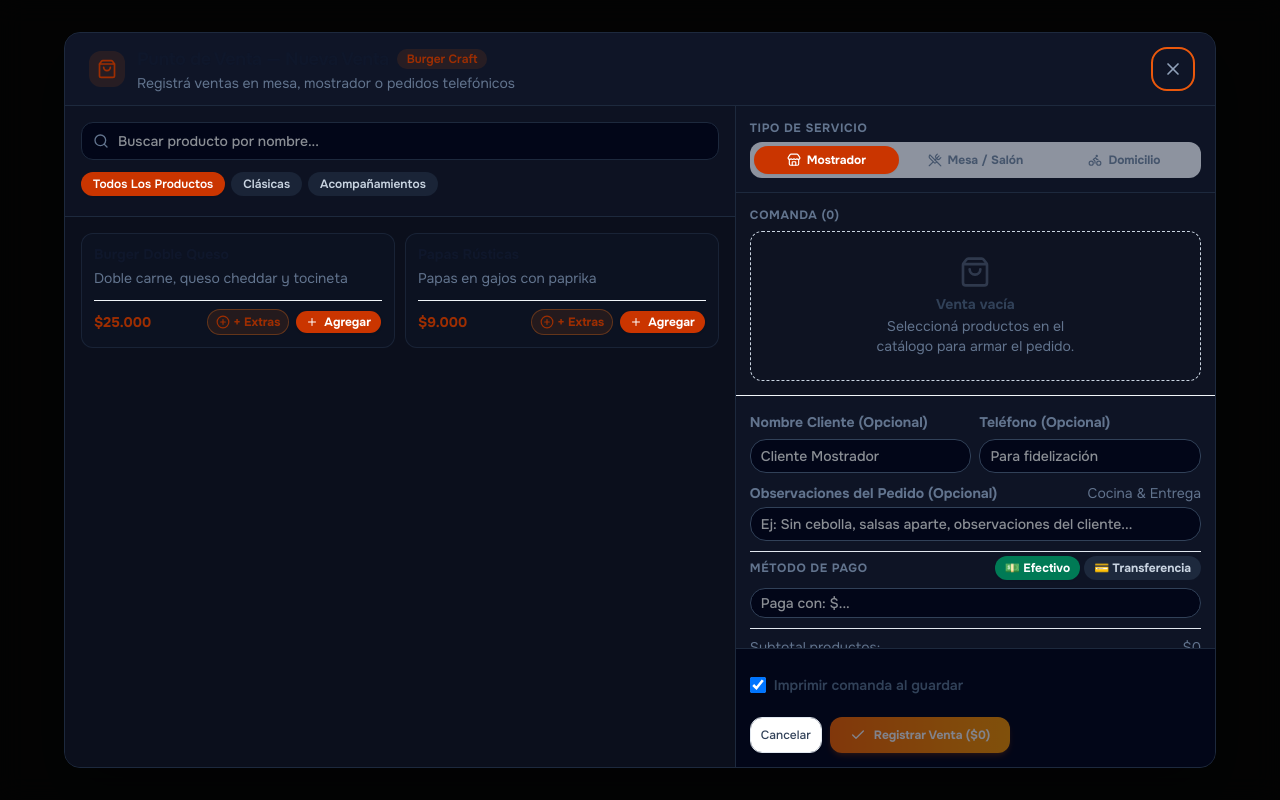
Scenario: ManualSaleModal - Point of Sale (POS) Component › allows customizing additions and kitchen notes via '+ Extras' button
The width and height of the screenshot is (1280, 800).
Click the button "+ Extras" next to "$25.000" at (248, 322), box [207,308,289,334]
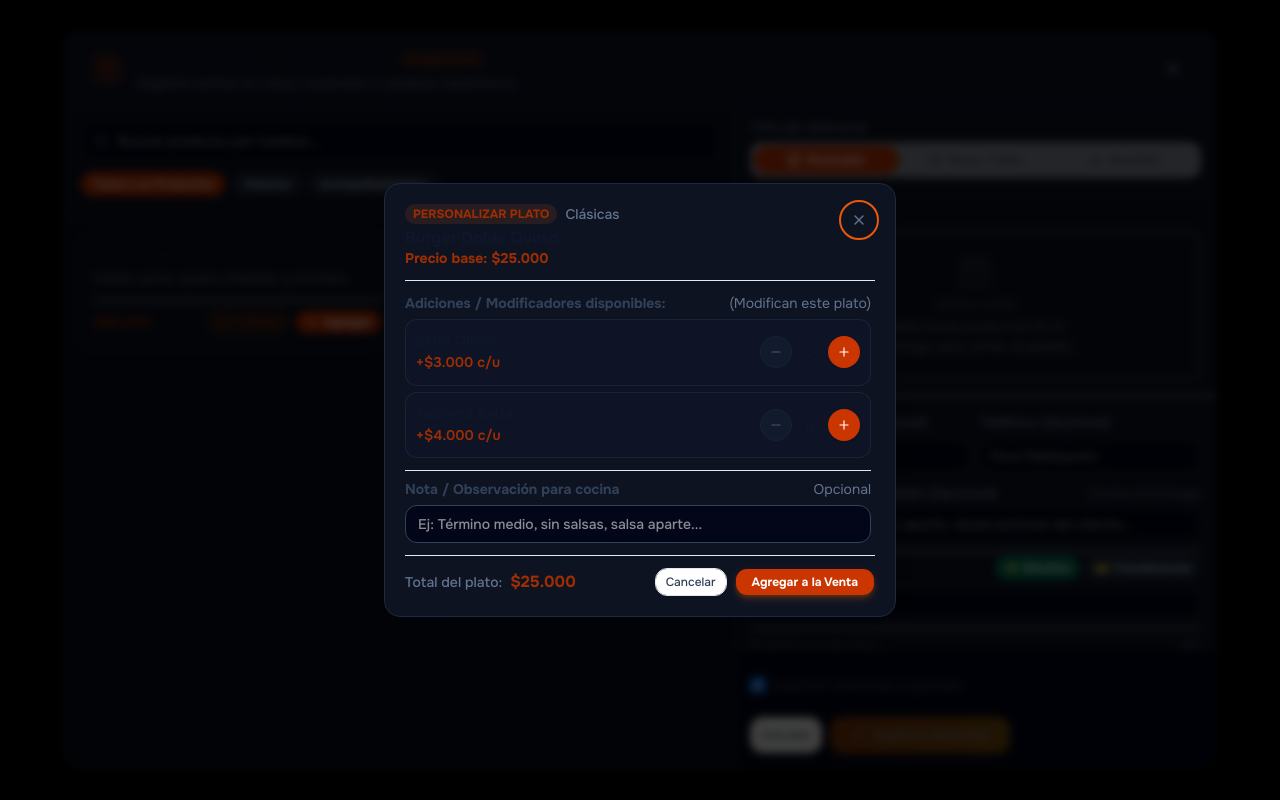
Now the text "Personalizar plato" is shown, box [405,204,557,224]
Now the text "Adiciones / Modificadores disponibles:" is shown, box [405,293,665,313]
# Add 1 Extra Queso
Click the button named "Agregar Extra Queso" at (844, 352), box [828,336,860,368]
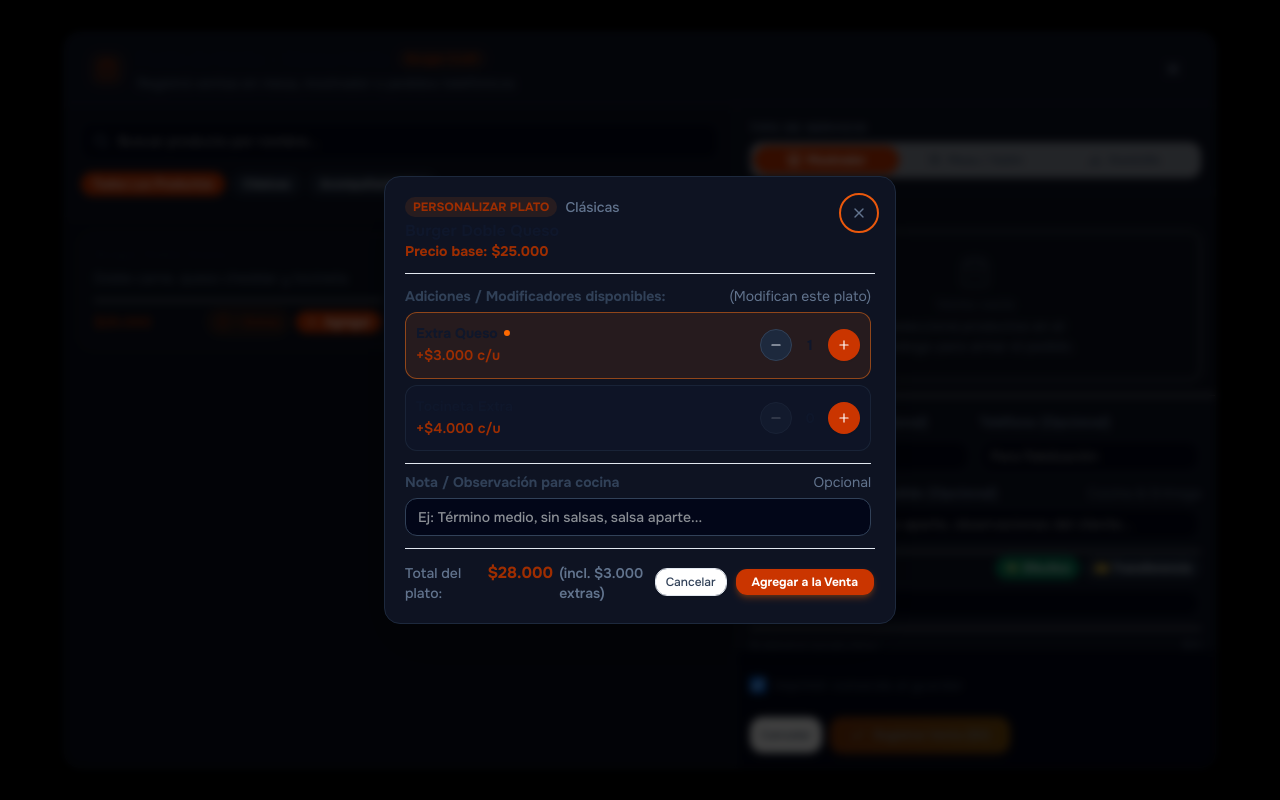
# Add note for kitchen
Type "Término 3/4 bien asada" into the field with placeholder "Ej: Término medio, sin salsas, salsa aparte..." at (638, 517), box [405,498,871,536]
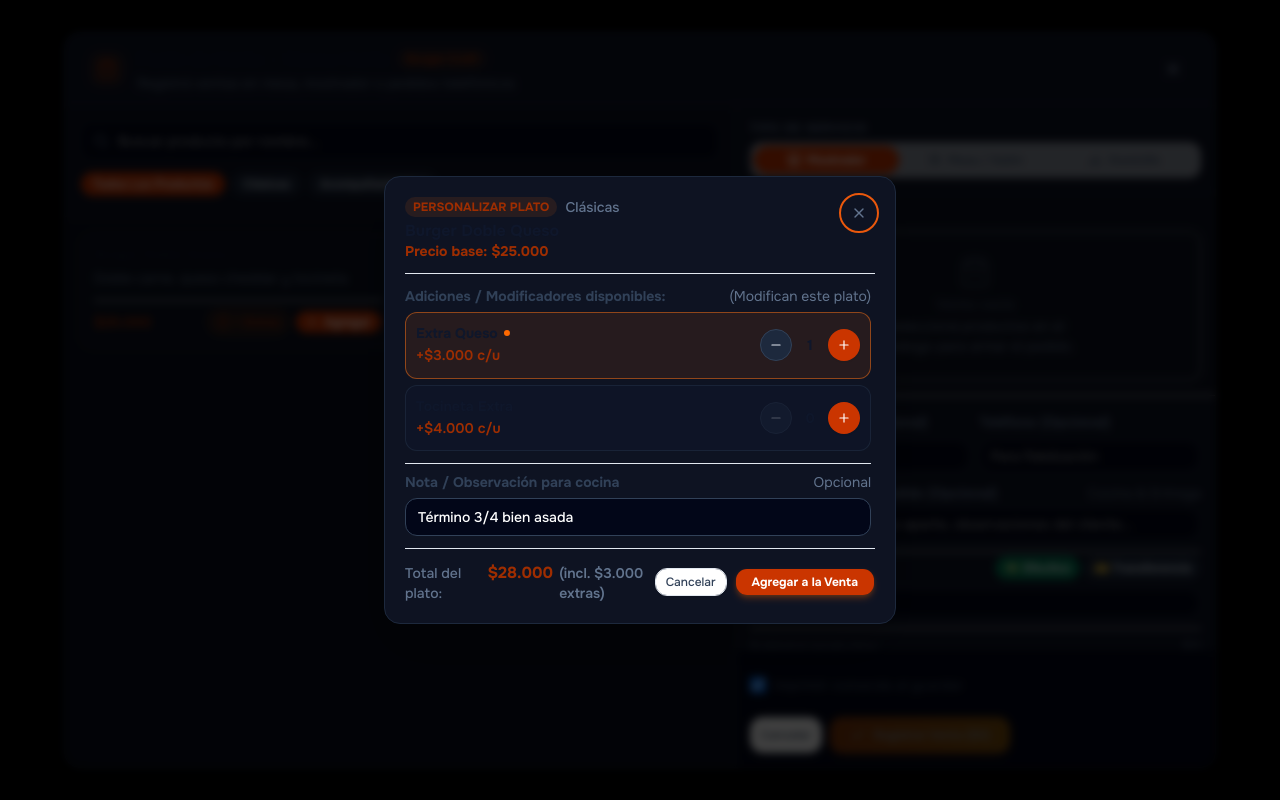
# Confirm addition to sale
Click the button "Agregar a la Venta" at (805, 582), box [735,568,875,596]
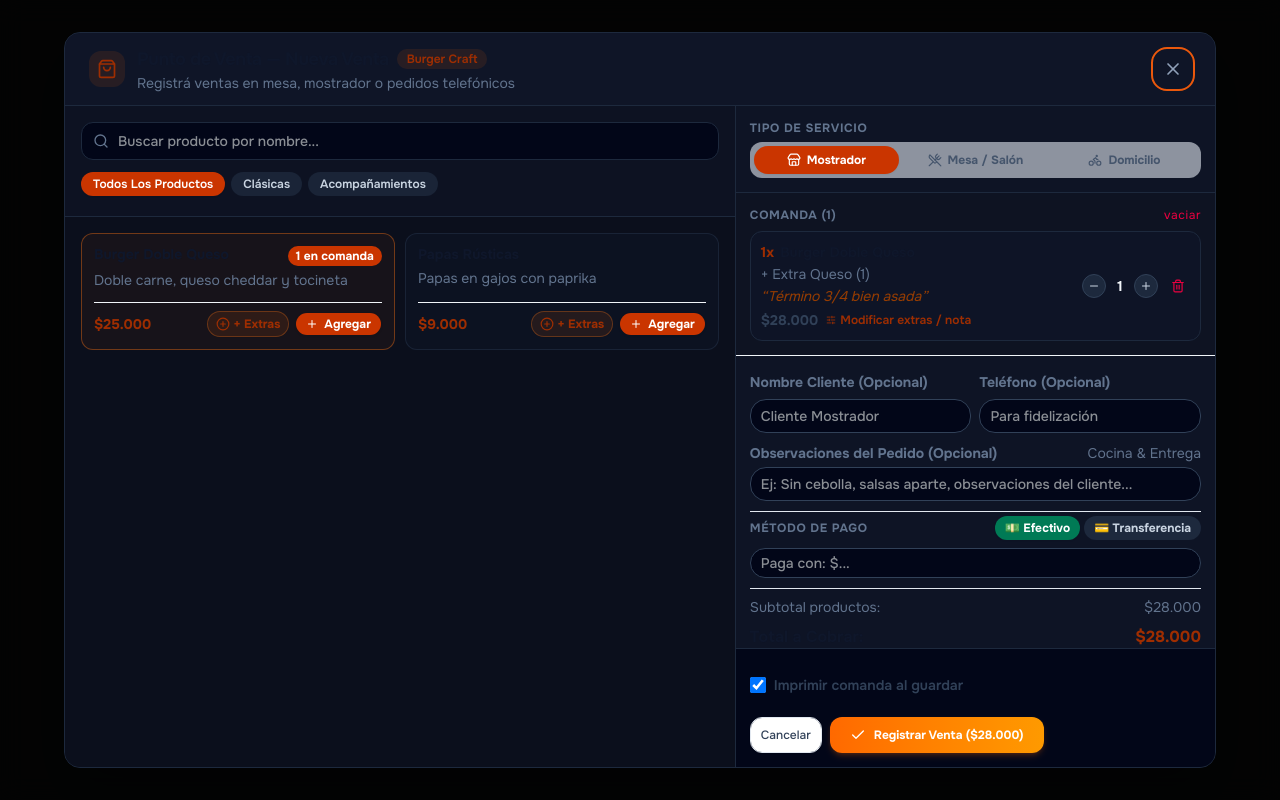
Now the text "Personalizar plato" is gone
Now the text "+ Extra Queso (1)" is shown, box [761,265,870,283]
Now the text "“Término 3/4 bien asada”" is shown, box [761,287,928,305]
